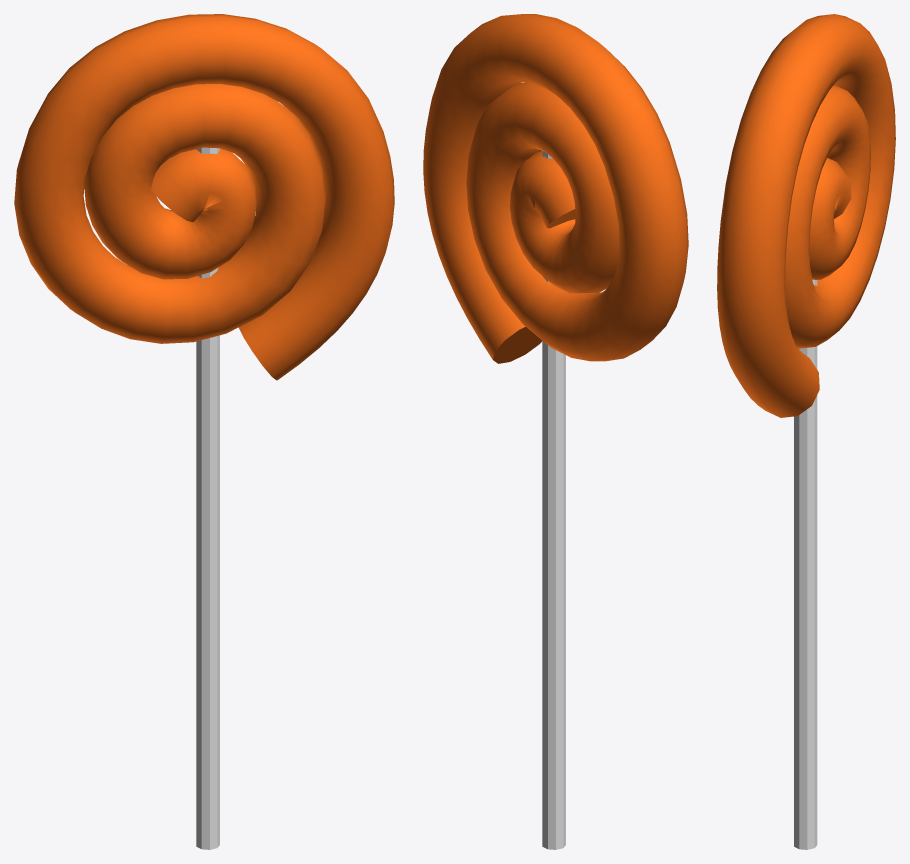
Rendered from 16_OrangeSwirlLolly.fbx.
The picture shows the model from 3 angles, left to right: view 1: azimuth 30°, elevation 25°; view 2: azimuth 150°, elevation 25°; view 3: azimuth 270°, elevation 25°; orthographic projection. The views are drawn at different scales.
Visible parts, largest first — view 1: BézierCurve.009, Cylinder.056; view 2: BézierCurve.009, Cylinder.056; view 3: BézierCurve.009, Cylinder.056.
Part boxes in pixels (box(x1,y1,x2,y2)): BézierCurve.009: box(14, 14, 394, 380); Cylinder.056: box(196, 147, 219, 849); BézierCurve.009: box(423, 14, 688, 363); Cylinder.056: box(542, 151, 565, 849); BézierCurve.009: box(717, 14, 895, 417); Cylinder.056: box(794, 279, 817, 849).
Bounding box in the file's own units: 145 × 364 × 72.7.
